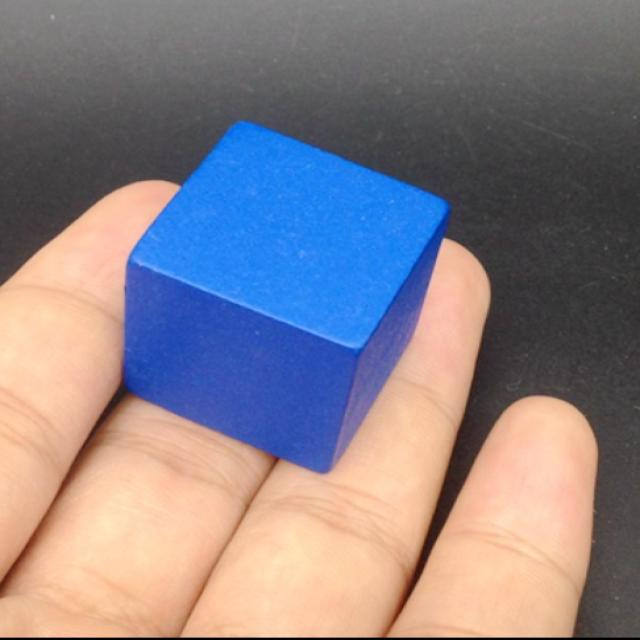bluecube: (121, 122, 450, 476)
